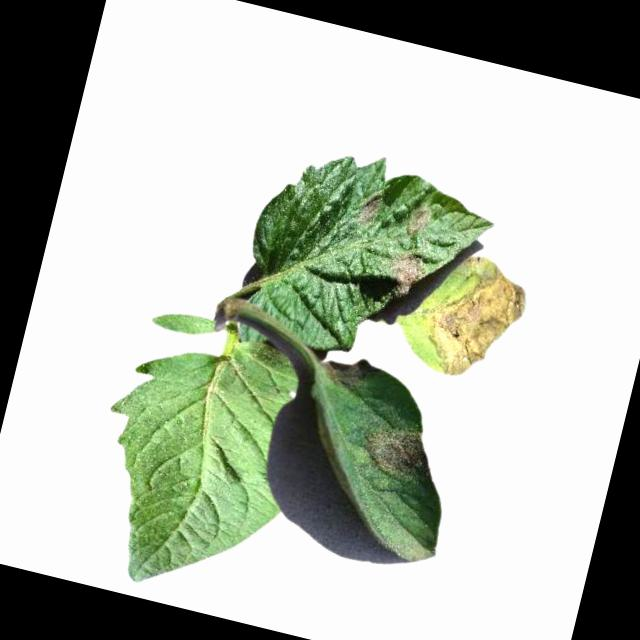Late_blight: (407, 244, 535, 390), (354, 421, 434, 487), (317, 350, 379, 395), (383, 248, 427, 301), (354, 192, 384, 230), (403, 203, 433, 238)
